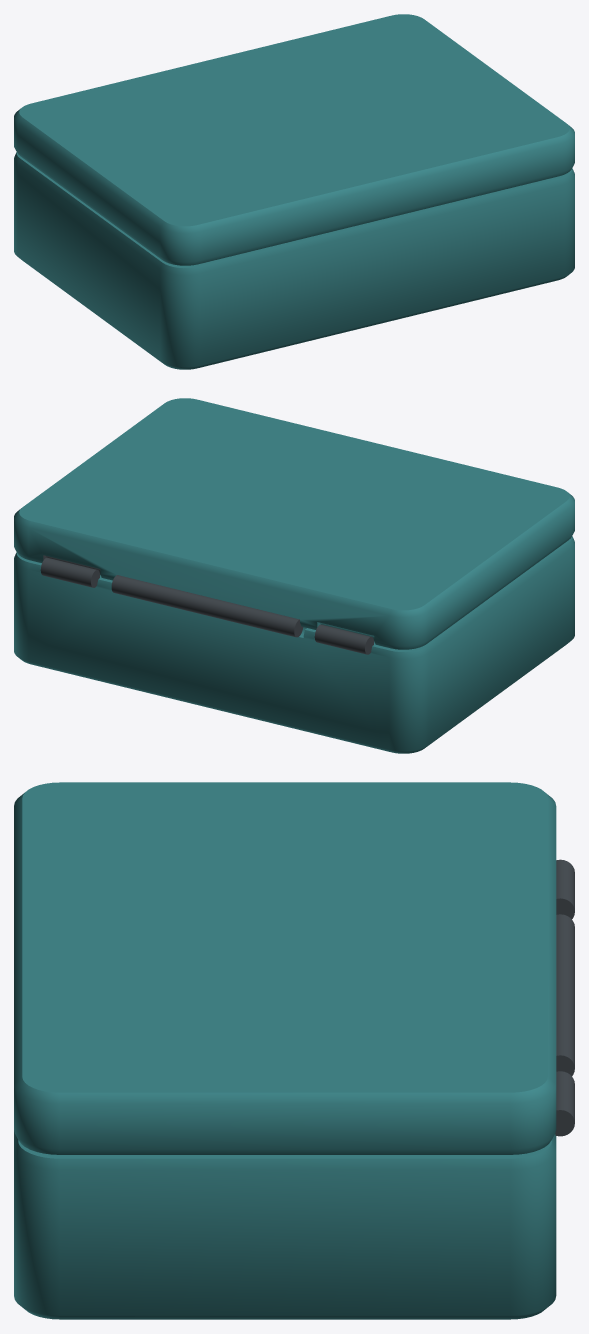
Rendered from DC_KitCase.fbx.
3 views of the same model, one above another, from view 1: azimuth 30°, elevation 25°; view 2: azimuth 150°, elevation 25°; view 3: azimuth 270°, elevation 25° (orthographic). The views are drawn at different scales.
Parts seen in each view (by area): view 1: Part_CaseLid, Part_CaseBody; view 2: Part_CaseLid, Part_CaseBody; view 3: Part_CaseLid, Part_CaseBody.
Part boxes in pixels (x1,y1,x2,y2): Part_CaseLid: (14,14,574,265); Part_CaseBody: (14,152,574,369); Part_CaseLid: (14,398,574,649); Part_CaseBody: (14,536,574,753); Part_CaseLid: (14,782,574,1154); Part_CaseBody: (14,859,574,1319).
Size of the model in its own units: 0.18 by 0.06 by 0.1345.
